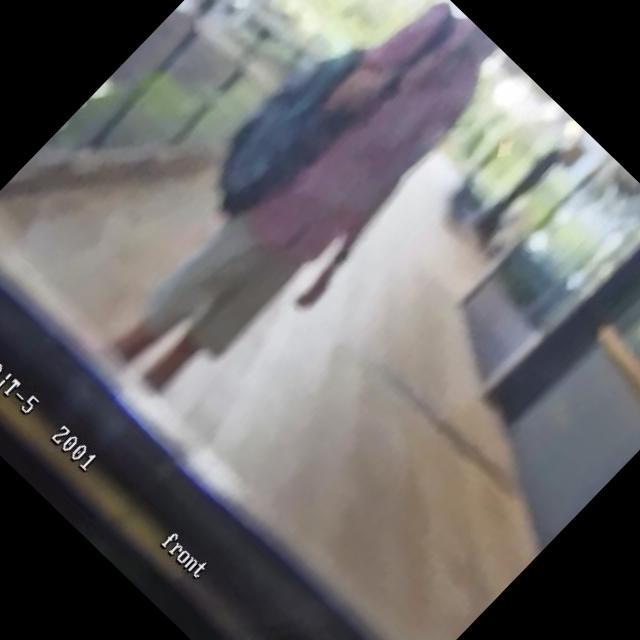person: (84, 0, 531, 433)
